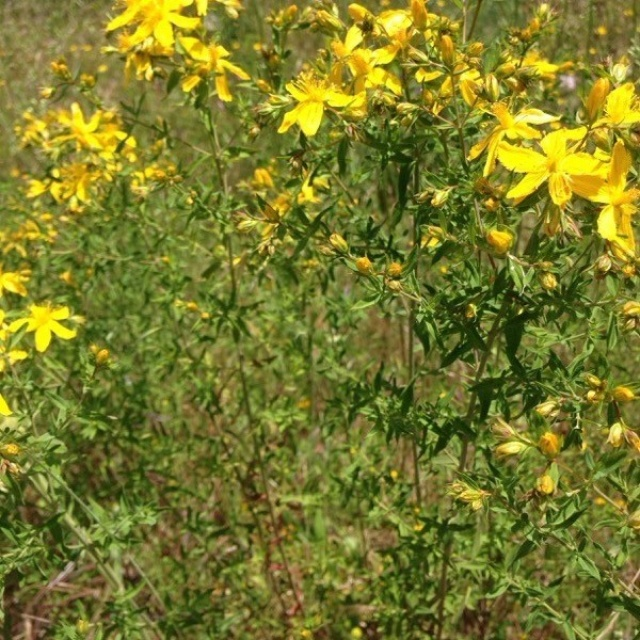obstacle: (256, 38, 619, 516)
